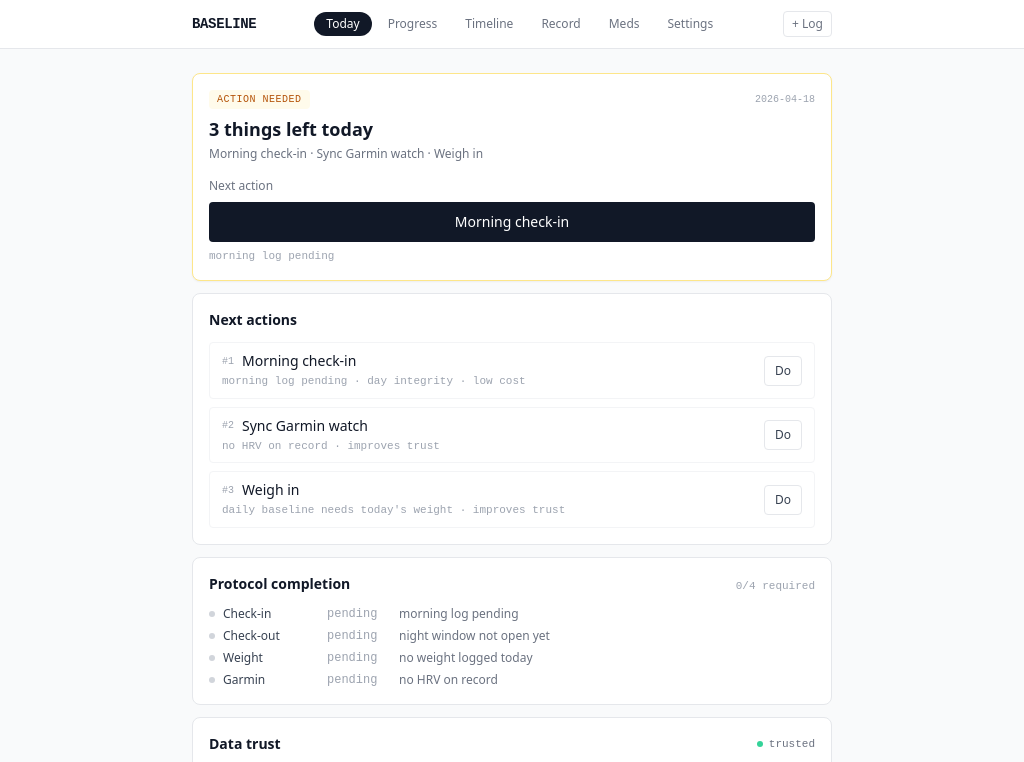
Test case: Progress regression › clicking the Progress nav tab renders the Progress page
# Navigate to Progress
Step 1. Click the button "Progress" → (412, 24), box [376,12,449,36]
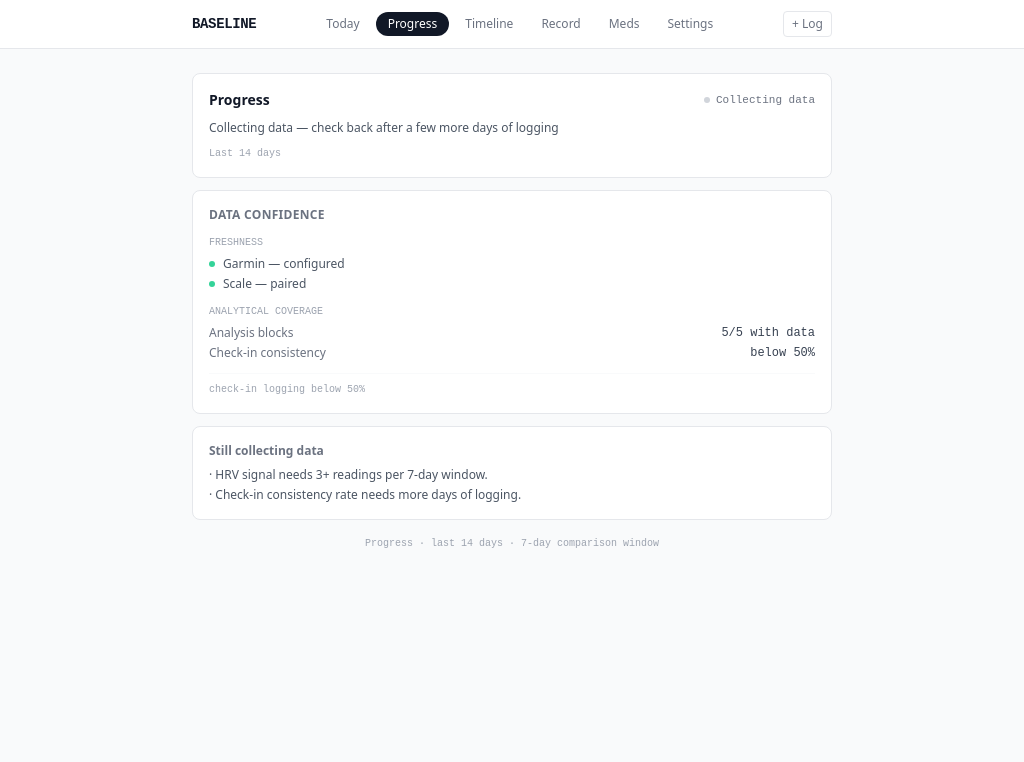
Expected: the element with test id "progress-hero" is shown, [192,73,832,178]
